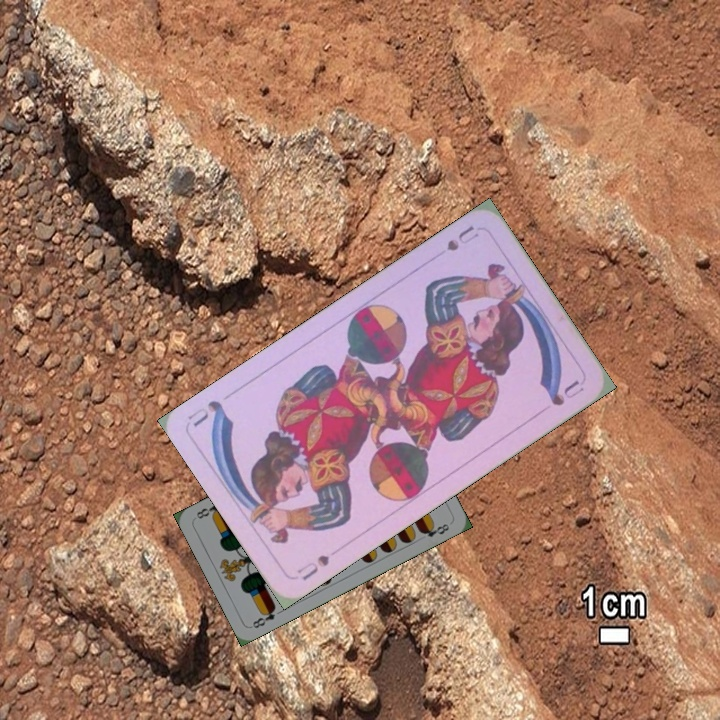E8: (248, 602, 278, 631)
SU: (442, 221, 482, 254), (292, 550, 332, 583)
